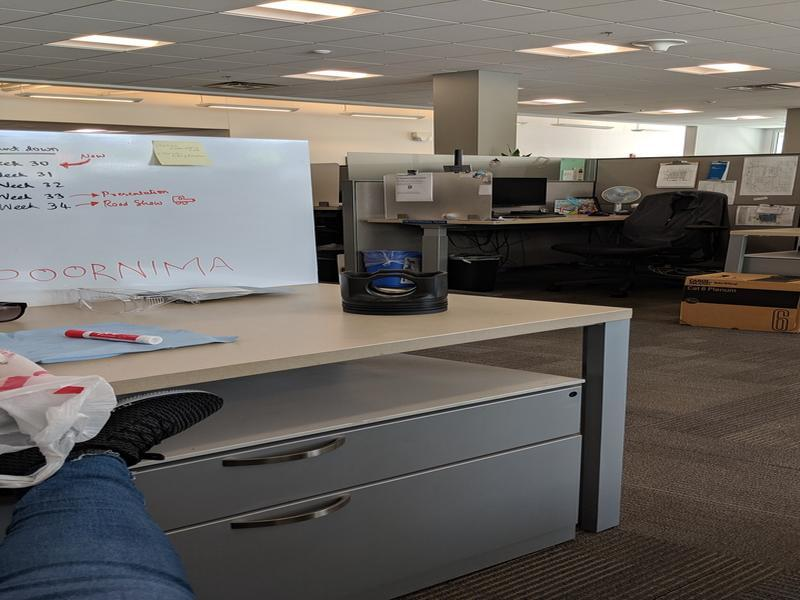piston: (335, 263, 452, 318)
